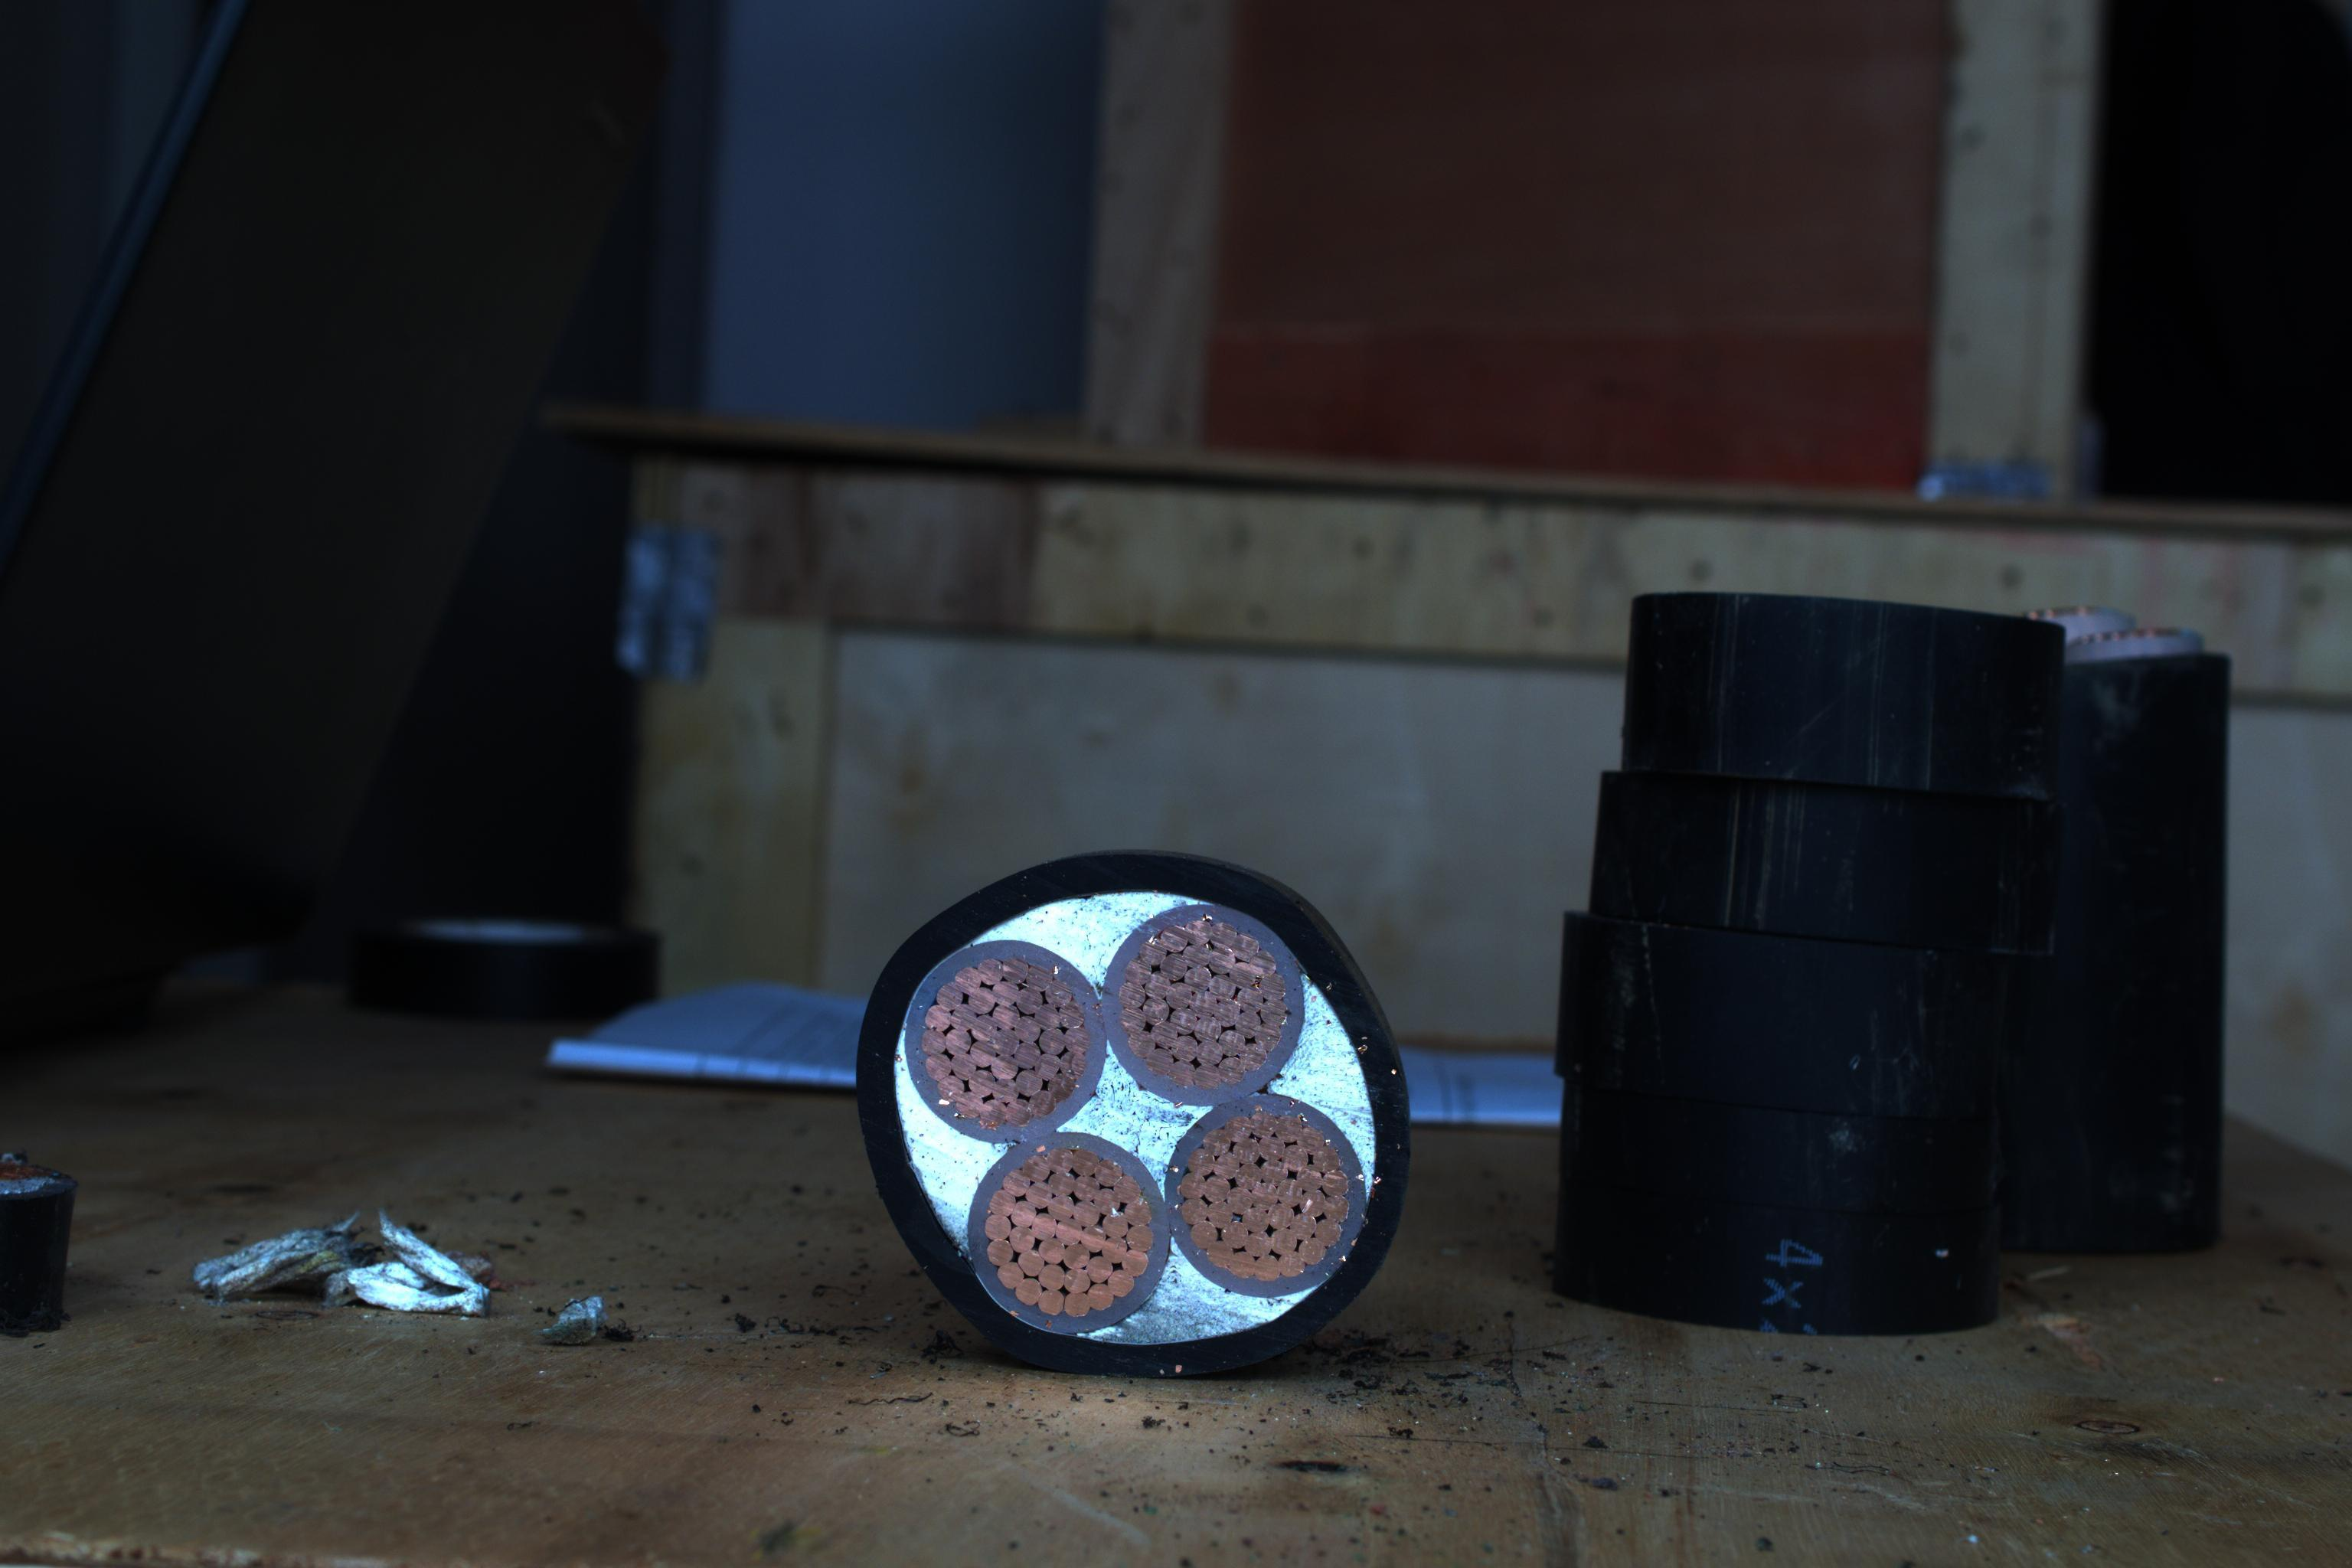YJV_0.6_1kV_4x240: (845, 840, 1417, 1372)
